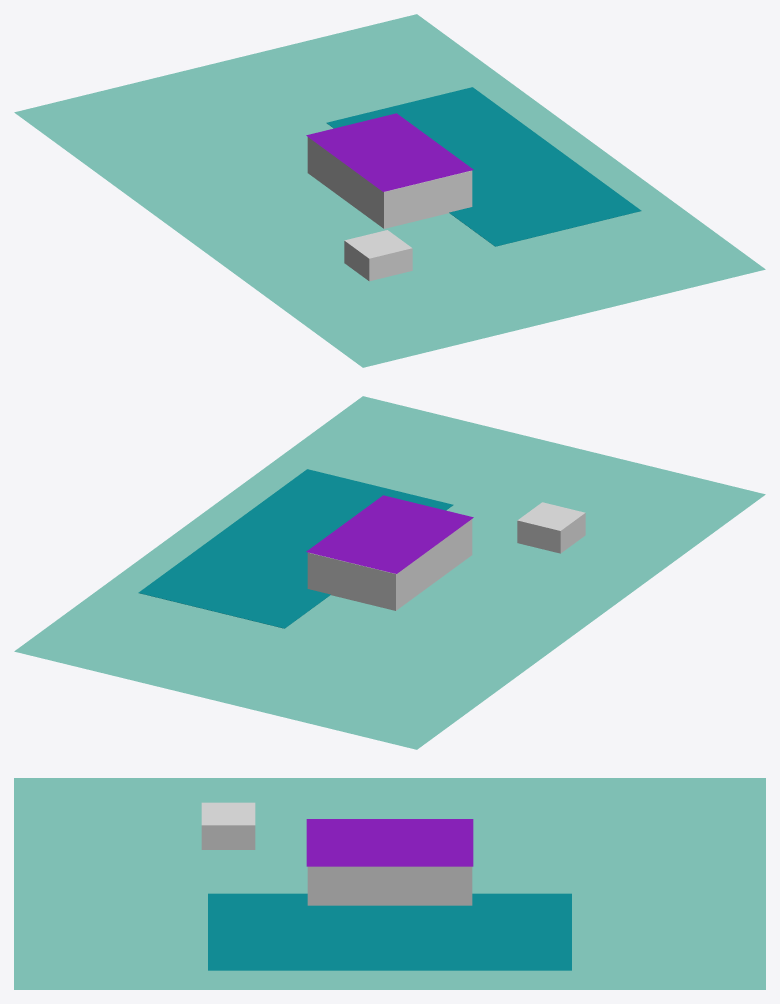
Rendered from cancha.dae.
The picture shows the model from 3 angles, top to bottom: view 1: azimuth 30°, elevation 25°; view 2: azimuth 150°, elevation 25°; view 3: azimuth 270°, elevation 25°; orthographic projection. The views are drawn at different scales.
Parts seen in each view (by area): view 1: Plane, CanchaAsfalto, Roof, Cube.001, Cube; view 2: Plane, CanchaAsfalto, Roof, Cube.001, Cube; view 3: Plane, CanchaAsfalto, Roof, Cube.001, Cube.
Boxes of the visible parts, x1,y1,x2,y2 form: Plane: [14, 14, 765, 367]; CanchaAsfalto: [326, 87, 641, 246]; Roof: [306, 113, 473, 191]; Cube.001: [307, 137, 472, 228]; Cube: [344, 230, 412, 281]; Plane: [14, 396, 765, 749]; CanchaAsfalto: [138, 469, 453, 628]; Roof: [306, 495, 473, 573]; Cube.001: [307, 519, 472, 610]; Cube: [517, 502, 585, 553]; Plane: [14, 778, 765, 989]; CanchaAsfalto: [208, 893, 571, 970]; Roof: [306, 819, 473, 866]; Cube.001: [307, 866, 472, 905]; Cube: [201, 802, 255, 849].
Size of the model in its own units: 18.63 by 27.94 by 2.69.
